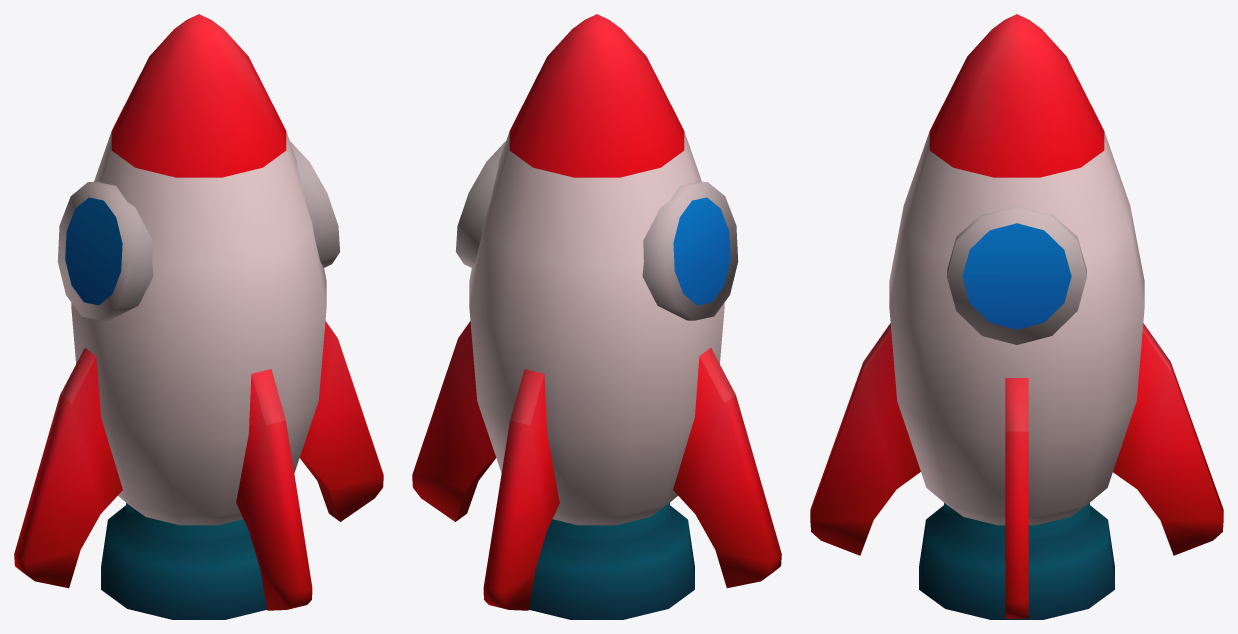
The model's file is rocket.fbx.
3 renders of one model, left to right at view 1: azimuth 30°, elevation 25°; view 2: azimuth 150°, elevation 25°; view 3: azimuth 270°, elevation 25°, orthographic.
Visible parts, largest first — view 1: rocket; view 2: rocket; view 3: rocket.
Boxes of the visible parts, x1,y1,x2,y2 form: rocket: (14,14,383,619); rocket: (412,14,781,619); rocket: (810,14,1223,619).
Bounding box in the file's own units: 14.25 × 21.46 × 14.25.
